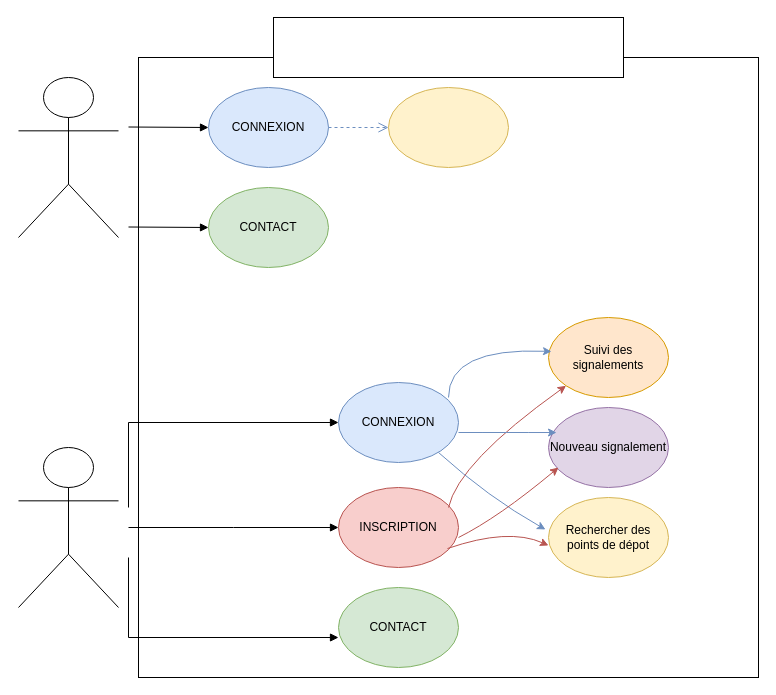
The diagram is 776 pixels wide and 695 high, and some of its shapes have lost their labels. The centre of each missing label's shape, as x and y in pixels:
"MISSIONS" goes at [448,127].
"PARTICULIER" goes at [68,527].
"PROFESSIONNEL" goes at [68,157].
"RABOUEUR" goes at [448,47].
